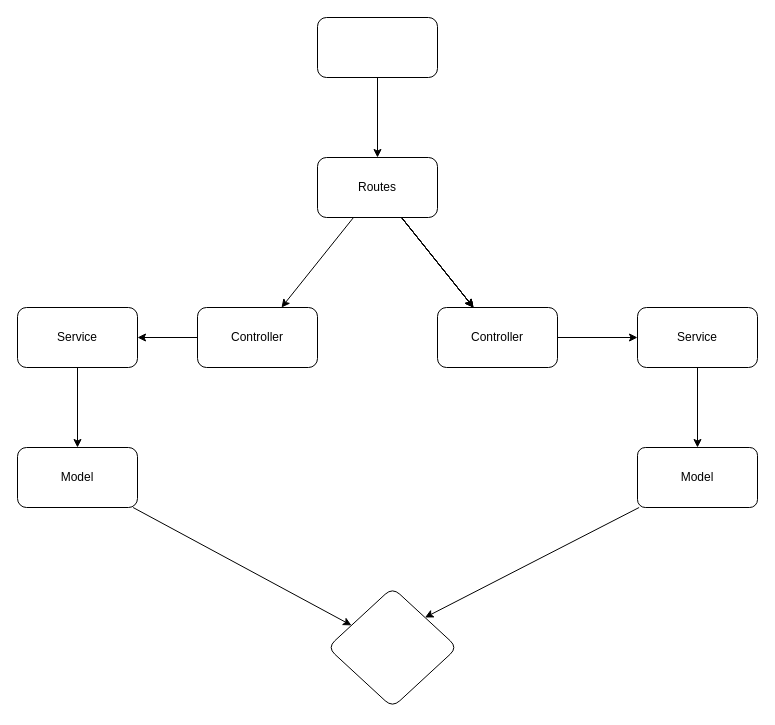
This 775x725 diagram has some shape labels left out. Each missing label, with the centre of its shape:
"Client" belongs at point 377,47.
"DB" belongs at point 392,647.
